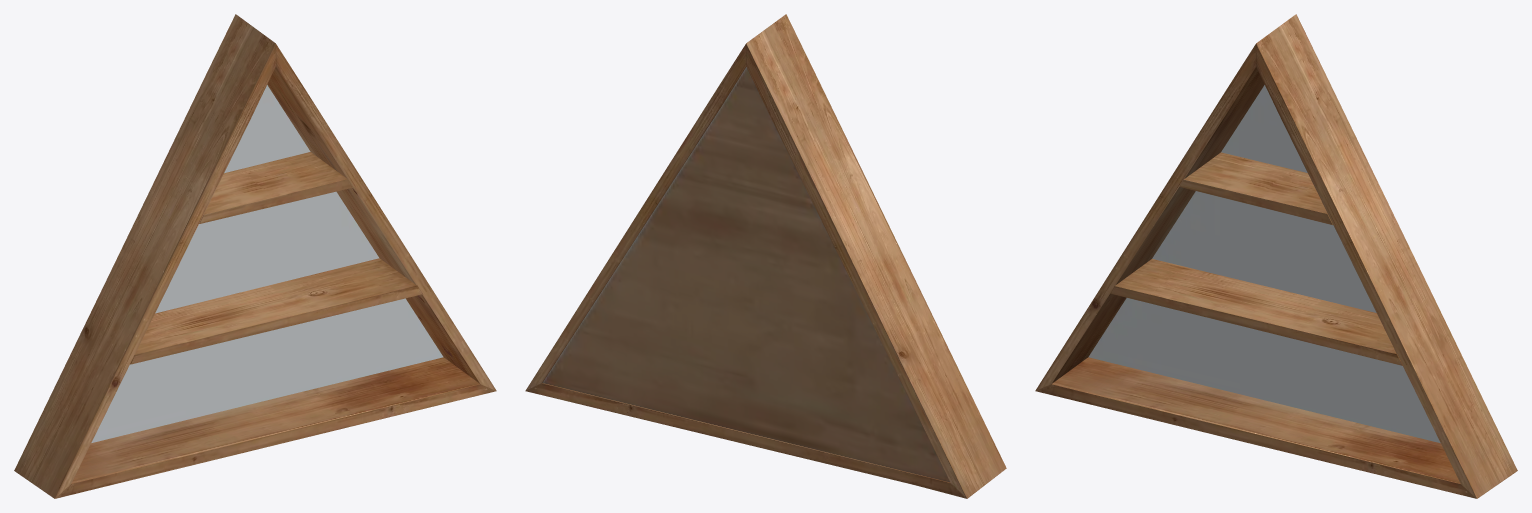
File: B07HSK9SVW.glb
3 views of the same model, side by side, from view 1: azimuth 30°, elevation 25°; view 2: azimuth 150°, elevation 25°; view 3: azimuth 330°, elevation 25° (orthographic).
Parts seen in each view (by area): view 1: RootNode; view 2: RootNode; view 3: RootNode.
Boxes of the visible parts, x1,y1,x2,y2 form: RootNode: (14,14,496,498); RootNode: (525,14,1006,498); RootNode: (1035,14,1517,498).
Bounding box in the file's own units: 0.6307 × 0.5478 × 0.0999.
1 material, 1 textured.
